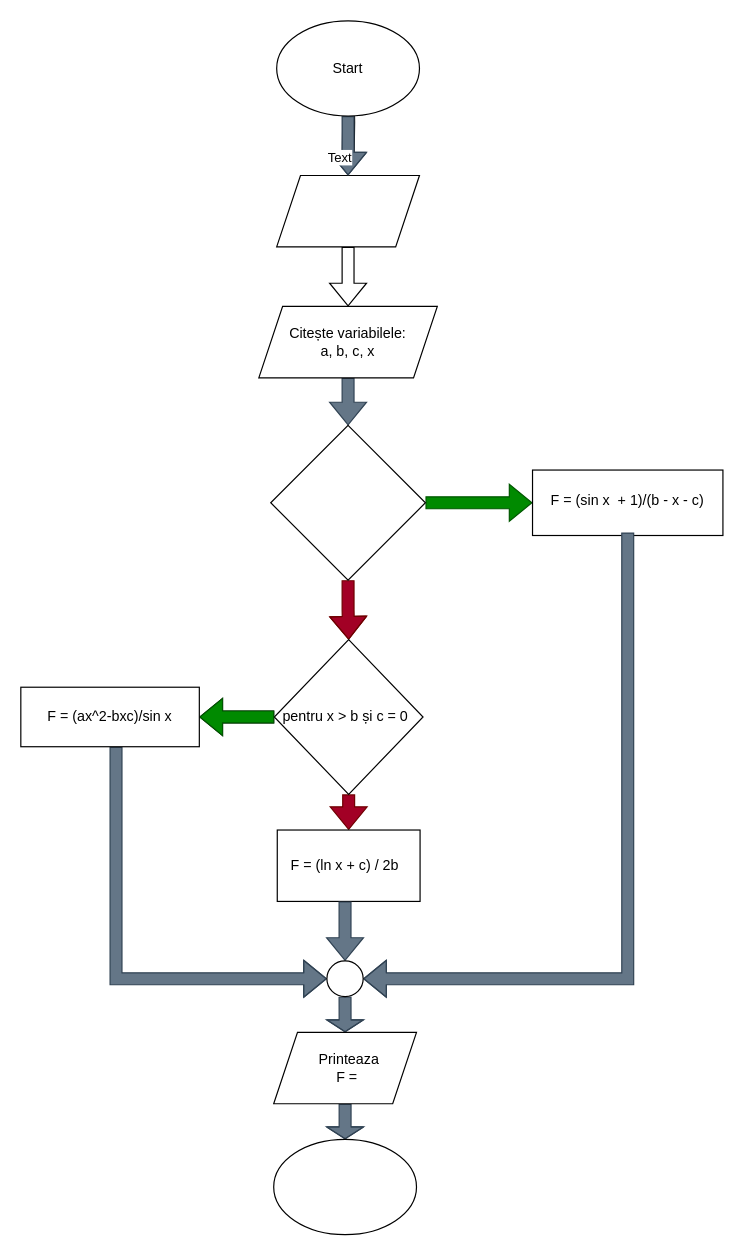
This 744x1255 diagram has some shape labels left out. The shapes that lost their labels are listed below. From the top down, each one's centre as x and y in pixels, then its label:
At (x=347, y=210): "scrie informatiile despre program".
At (x=347, y=502): "pentru x < b sau c ≠ 0".
At (x=344, y=1186): "stop".
